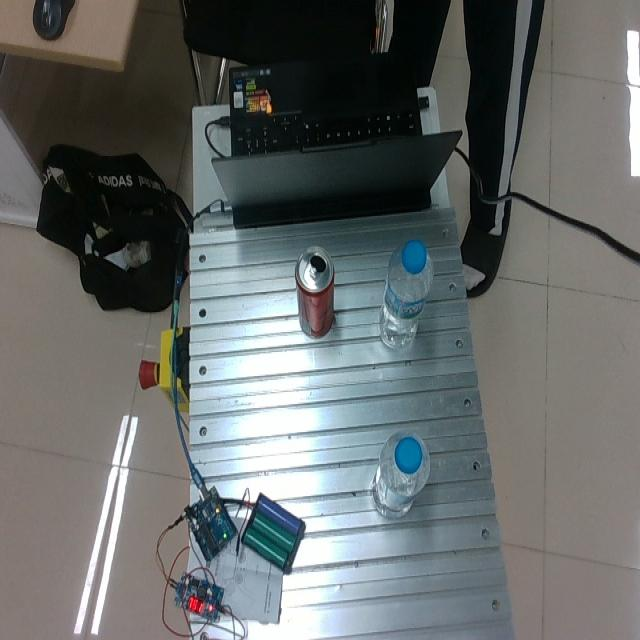coca: (294, 244, 335, 339)
lavie: (377, 239, 433, 349), (370, 430, 430, 518)
